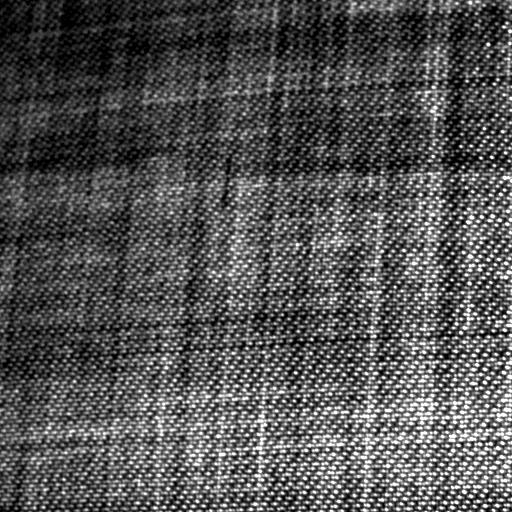fabric_perfect: (0, 2, 508, 509)
